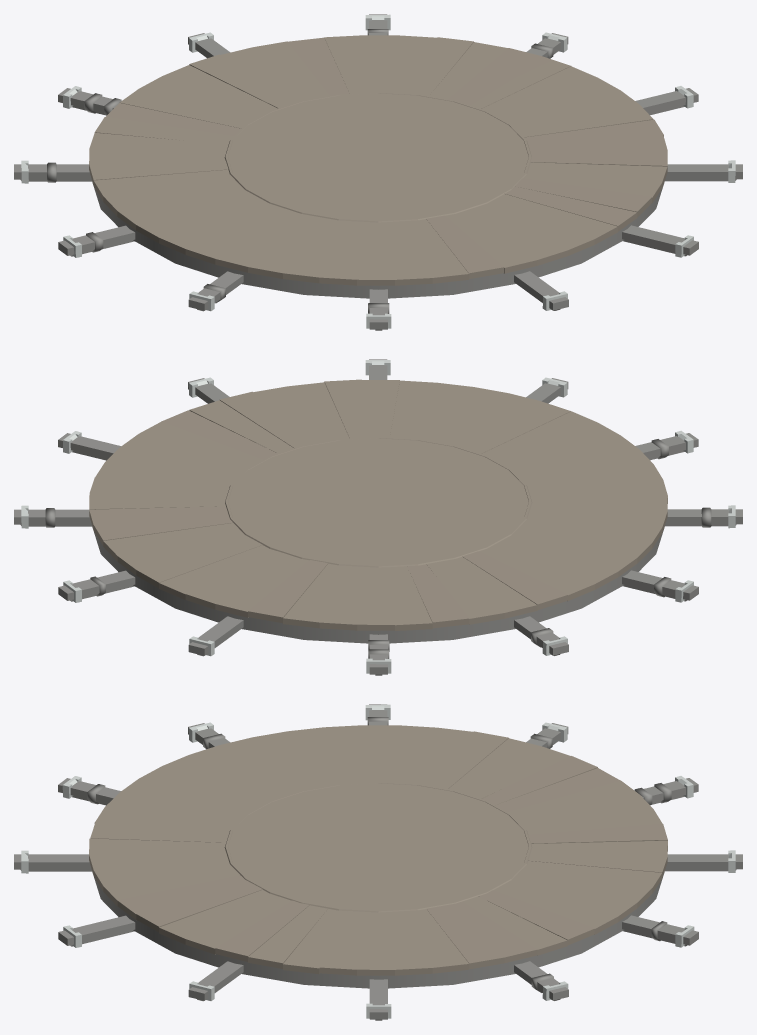
3 views of the same model, one above another, from view 1: azimuth 30°, elevation 25°; view 2: azimuth 150°, elevation 25°; view 3: azimuth 270°, elevation 25° (orthographic).
Parts seen in each view (by area): view 1: G:\FFXIV-MapTools\exports\s1f3\bg\ffxiv\sea_s1\fld\s1f3\bgpa (×5); view 2: G:\FFXIV-MapTools\exports\s1f3\bg\ffxiv\sea_s1\fld\s1f3\bgpa (×5); view 3: G:\FFXIV-MapTools\exports\s1f3\bg\ffxiv\sea_s1\fld\s1f3\bgpa (×5).
Part boxes in pixels (x1=…): G:\FFXIV-MapTools\exports\s1f3\bg\ffxiv\sea_s1\fld\s1f3\bgpa (×5): x1=14, y1=14, x2=742, y2=330; G:\FFXIV-MapTools\exports\s1f3\bg\ffxiv\sea_s1\fld\s1f3\bgpa (×5): x1=14, y1=359, x2=742, y2=675; G:\FFXIV-MapTools\exports\s1f3\bg\ffxiv\sea_s1\fld\s1f3\bgpa (×5): x1=14, y1=704, x2=742, y2=1020.
Size of the model in its own units: 24.42 by 0.9291 by 24.42.
